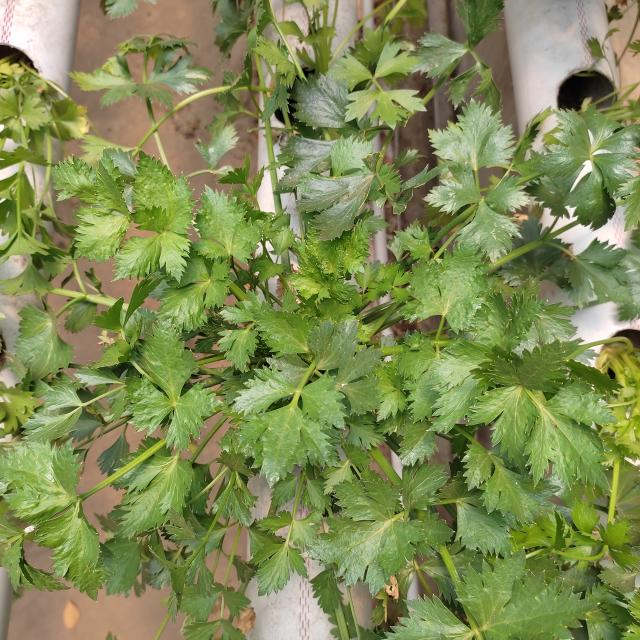Wet Waste: (120, 55, 604, 609)
